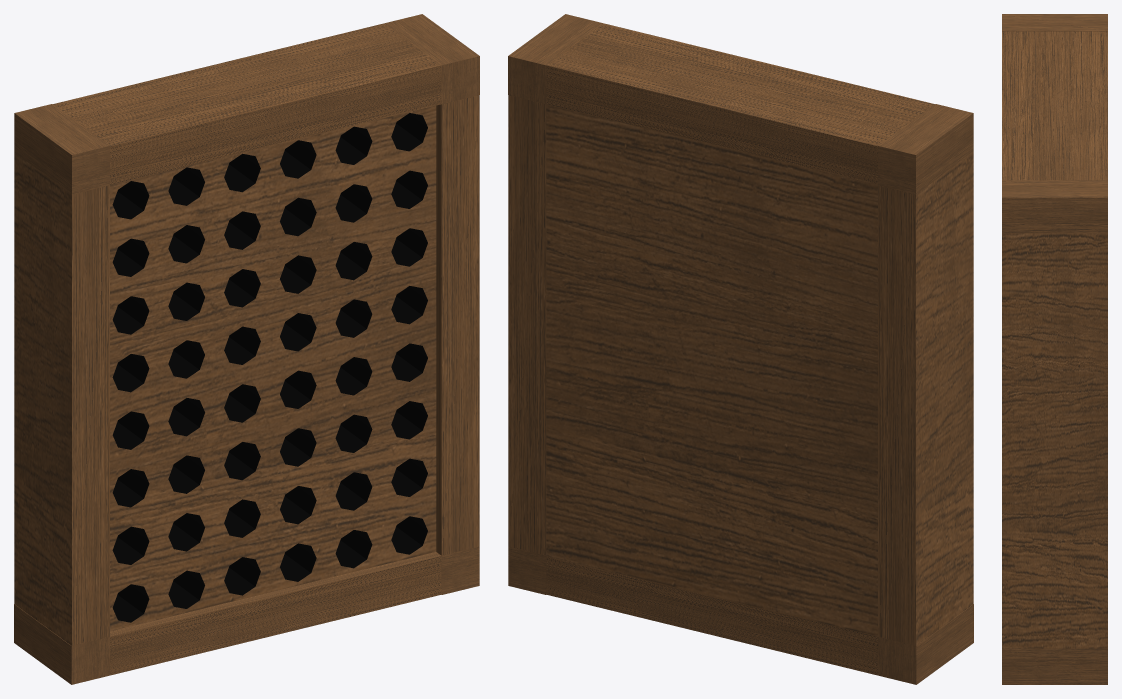
Rendered from arrow wall trap.fbx.
The picture shows the model from 3 angles, left to right: view 1: azimuth 30°, elevation 25°; view 2: azimuth 150°, elevation 25°; view 3: azimuth 270°, elevation 25°; orthographic projection. The views are drawn at different scales.
Parts seen in each view (by area): view 1: Cube_1_Cylinder_0_1; view 2: Cube_1_Cylinder_0_1; view 3: Cube_1_Cylinder_0_1.
Boxes of the visible parts, x1,y1,x2,y2 form: Cube_1_Cylinder_0_1: (14, 14, 479, 684); Cube_1_Cylinder_0_1: (508, 14, 973, 684); Cube_1_Cylinder_0_1: (1002, 14, 1107, 684).
Size of the model in its own units: 133 by 165 by 32.43.
2 materials, 1 textured.
